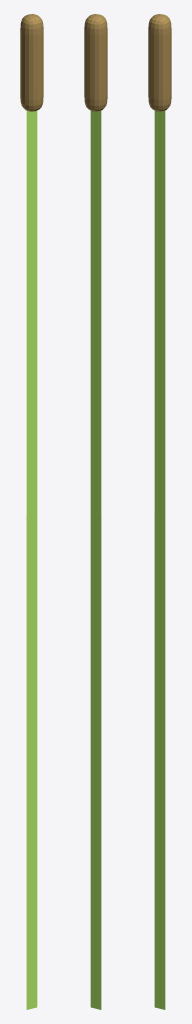
File: reed.fbx
3 renders of one model, left to right at view 1: azimuth 30°, elevation 25°; view 2: azimuth 150°, elevation 25°; view 3: azimuth 330°, elevation 25°, orthographic.
Parts seen in each view (by area): view 1: reed; view 2: reed; view 3: reed.
Boxes of the visible parts, x1,y1,x2,y2 form: reed: (20, 14, 43, 1009); reed: (84, 14, 107, 1009); reed: (148, 14, 171, 1009).
Bounding box in the file's own units: 142 × 6622 × 142.
